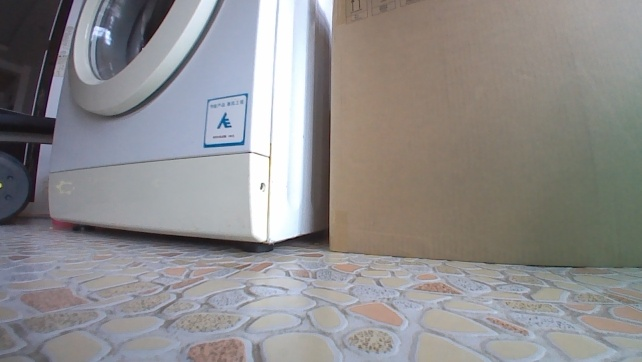washing_machine: (42, 0, 334, 255)
